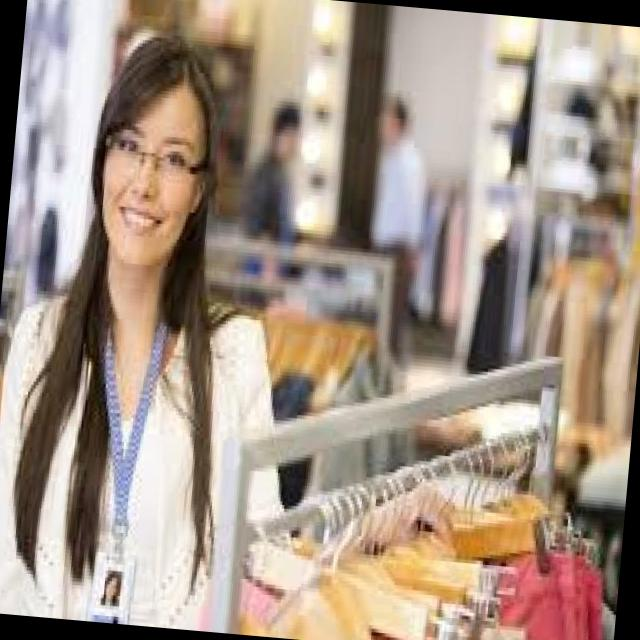id_card: (72, 307, 168, 625)
